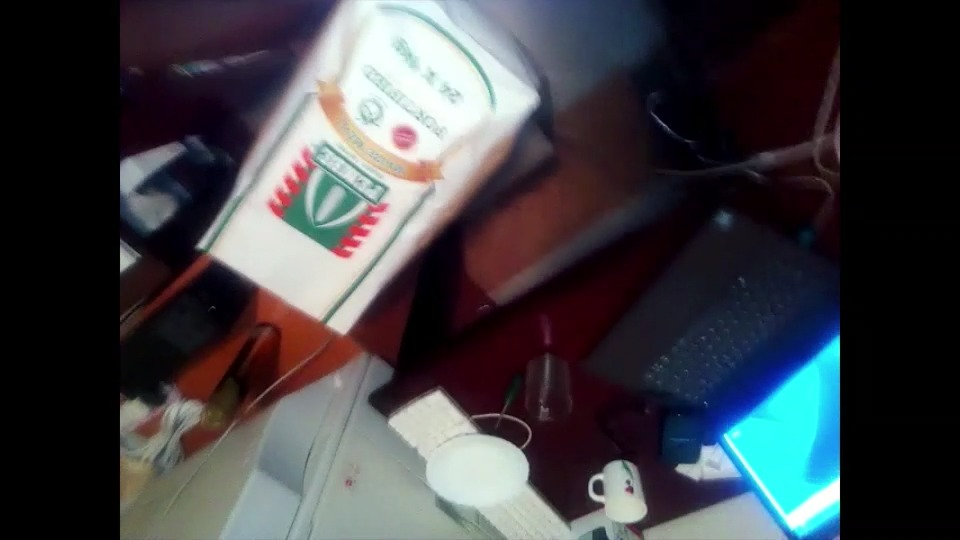maize_flour_green_label: (195, 0, 542, 331)
